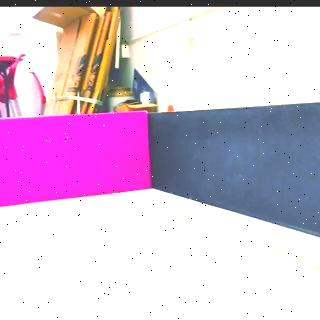xparking: (3, 120, 149, 202)
